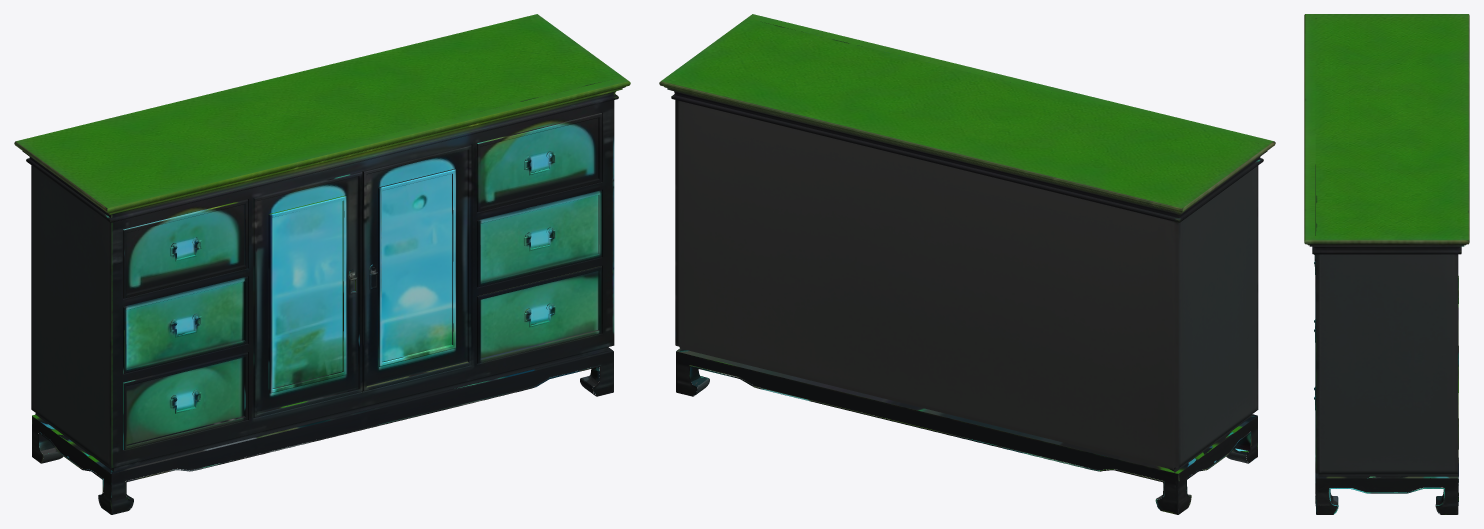
Rendered from edited_mesh.glb.
3 renders of one model, left to right at view 1: azimuth 30°, elevation 25°; view 2: azimuth 150°, elevation 25°; view 3: azimuth 270°, elevation 25°, orthographic. The views are drawn at different scales.
Visible parts, largest first — view 1: solid_001_wire; view 2: solid_001_wire; view 3: solid_001_wire.
Part boxes in pixels (bbox=[...]): solid_001_wire: bbox=[14, 14, 630, 514]; solid_001_wire: bbox=[659, 14, 1275, 514]; solid_001_wire: bbox=[1304, 14, 1469, 514].
Size of the model in its own units: 1.86 by 1.07 by 0.5733.
1 material, 1 textured.
